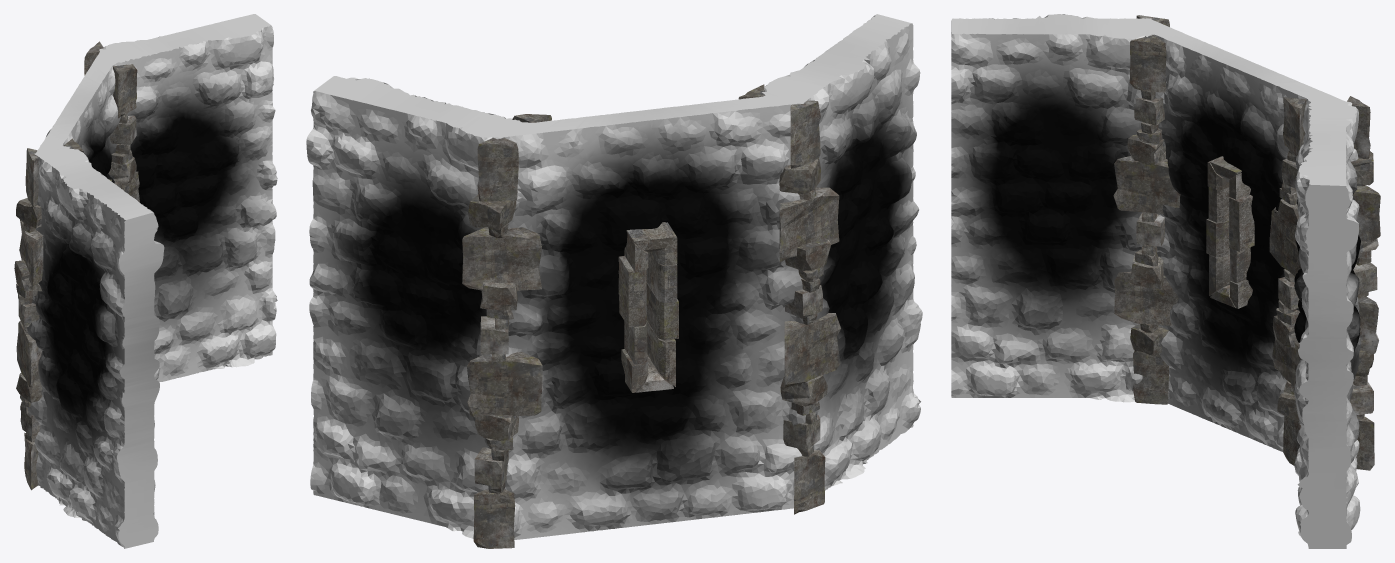
The model's file is SM_CastleTower_Window_A_15.fbx.
3 renders of one model, left to right at view 1: azimuth 30°, elevation 25°; view 2: azimuth 150°, elevation 25°; view 3: azimuth 270°, elevation 25°, orthographic. The views are drawn at different scales.
Parts seen in each view (by area): view 1: SM_CastleTower_Window_A_15_LOD0; view 2: SM_CastleTower_Window_A_15_LOD0; view 3: SM_CastleTower_Window_A_15_LOD0.
Part boxes in pixels (x1,y1,x2,y2): SM_CastleTower_Window_A_15_LOD0: (14,14,277,548); SM_CastleTower_Window_A_15_LOD0: (306,14,922,548); SM_CastleTower_Window_A_15_LOD0: (951,14,1380,548).
Bounding box in the file's own units: 417 × 428 × 401.
